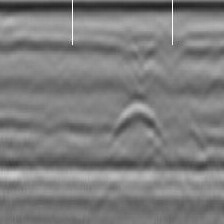Utility: (110, 101, 164, 144)
